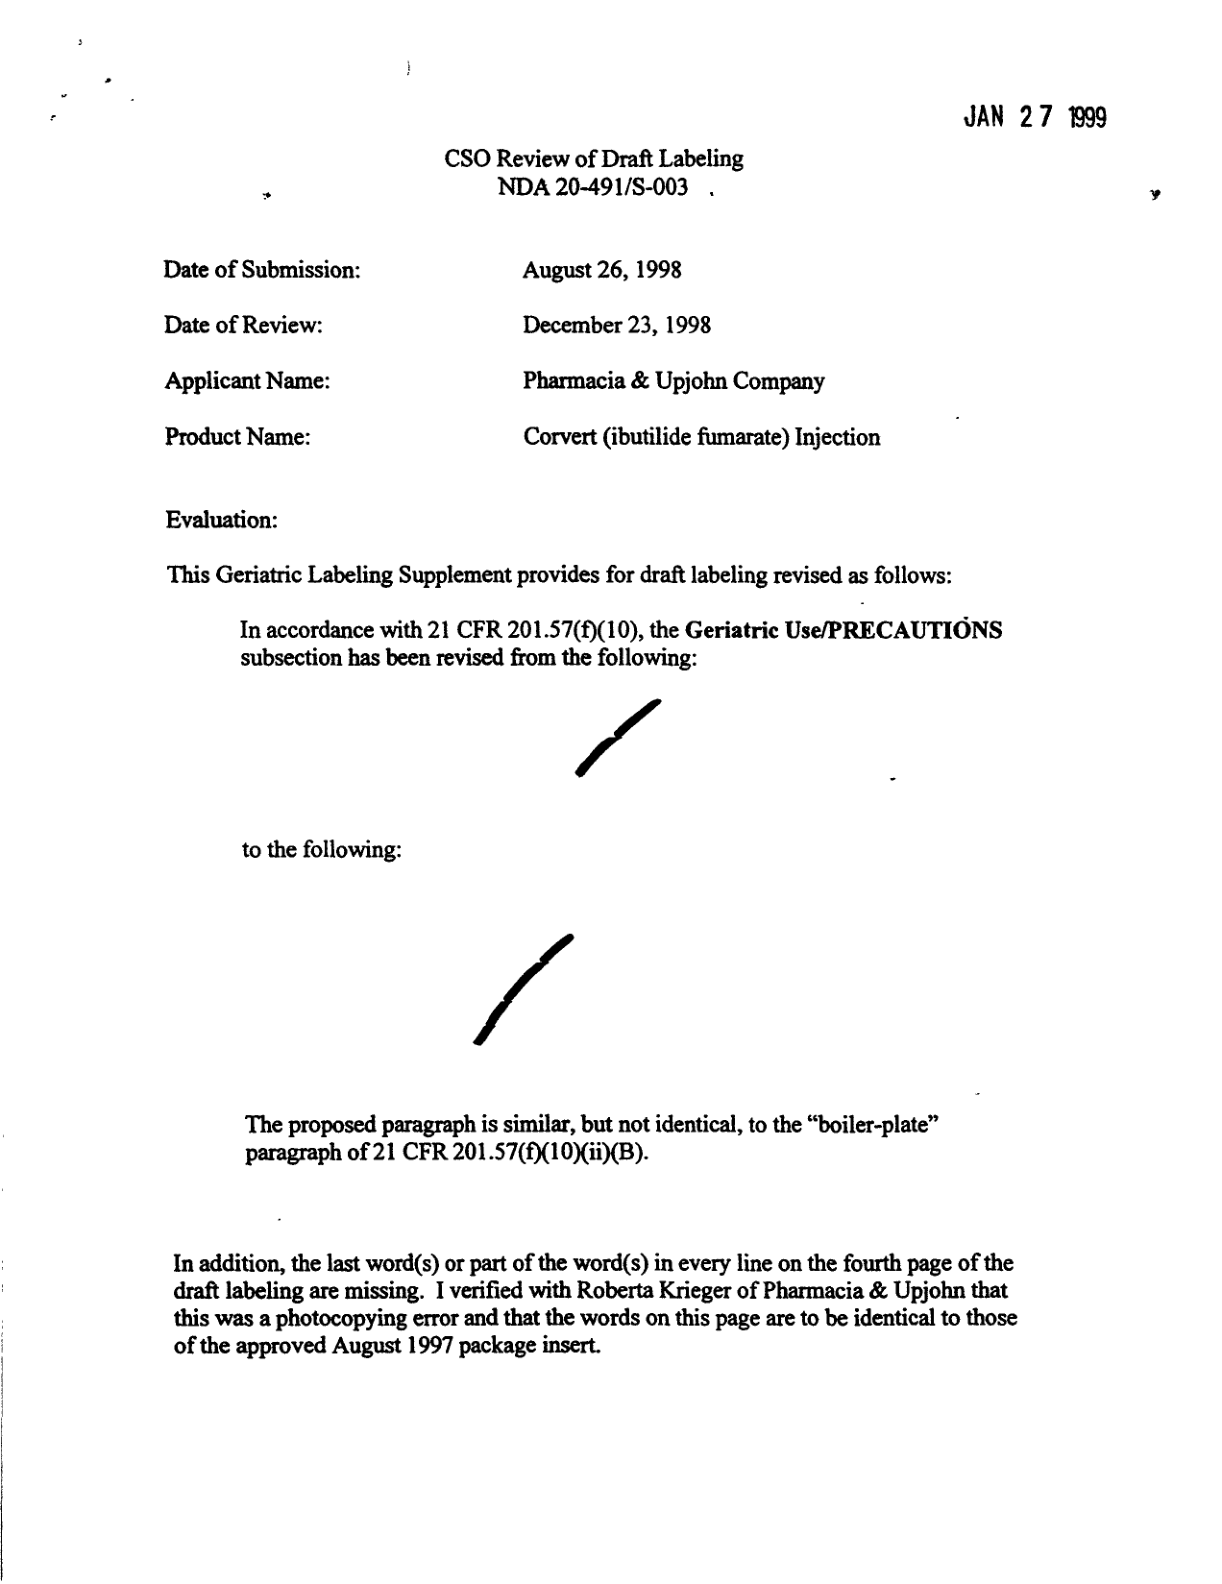nolines: (160, 255, 882, 449)
